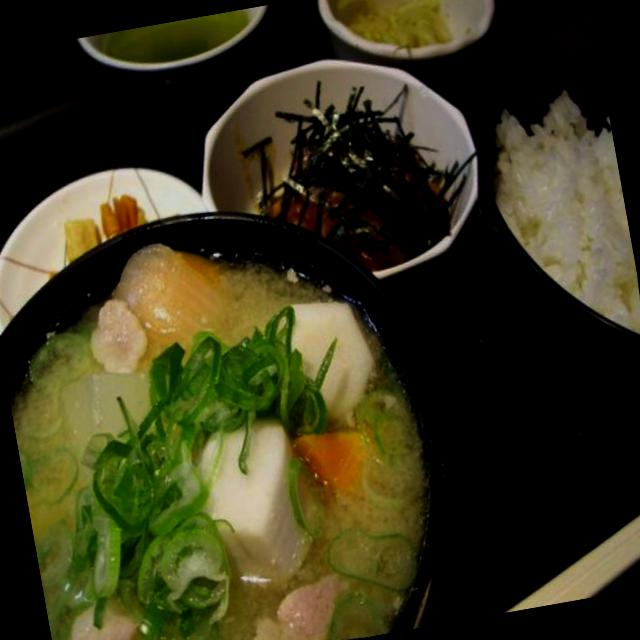Rice: (478, 81, 640, 333)
